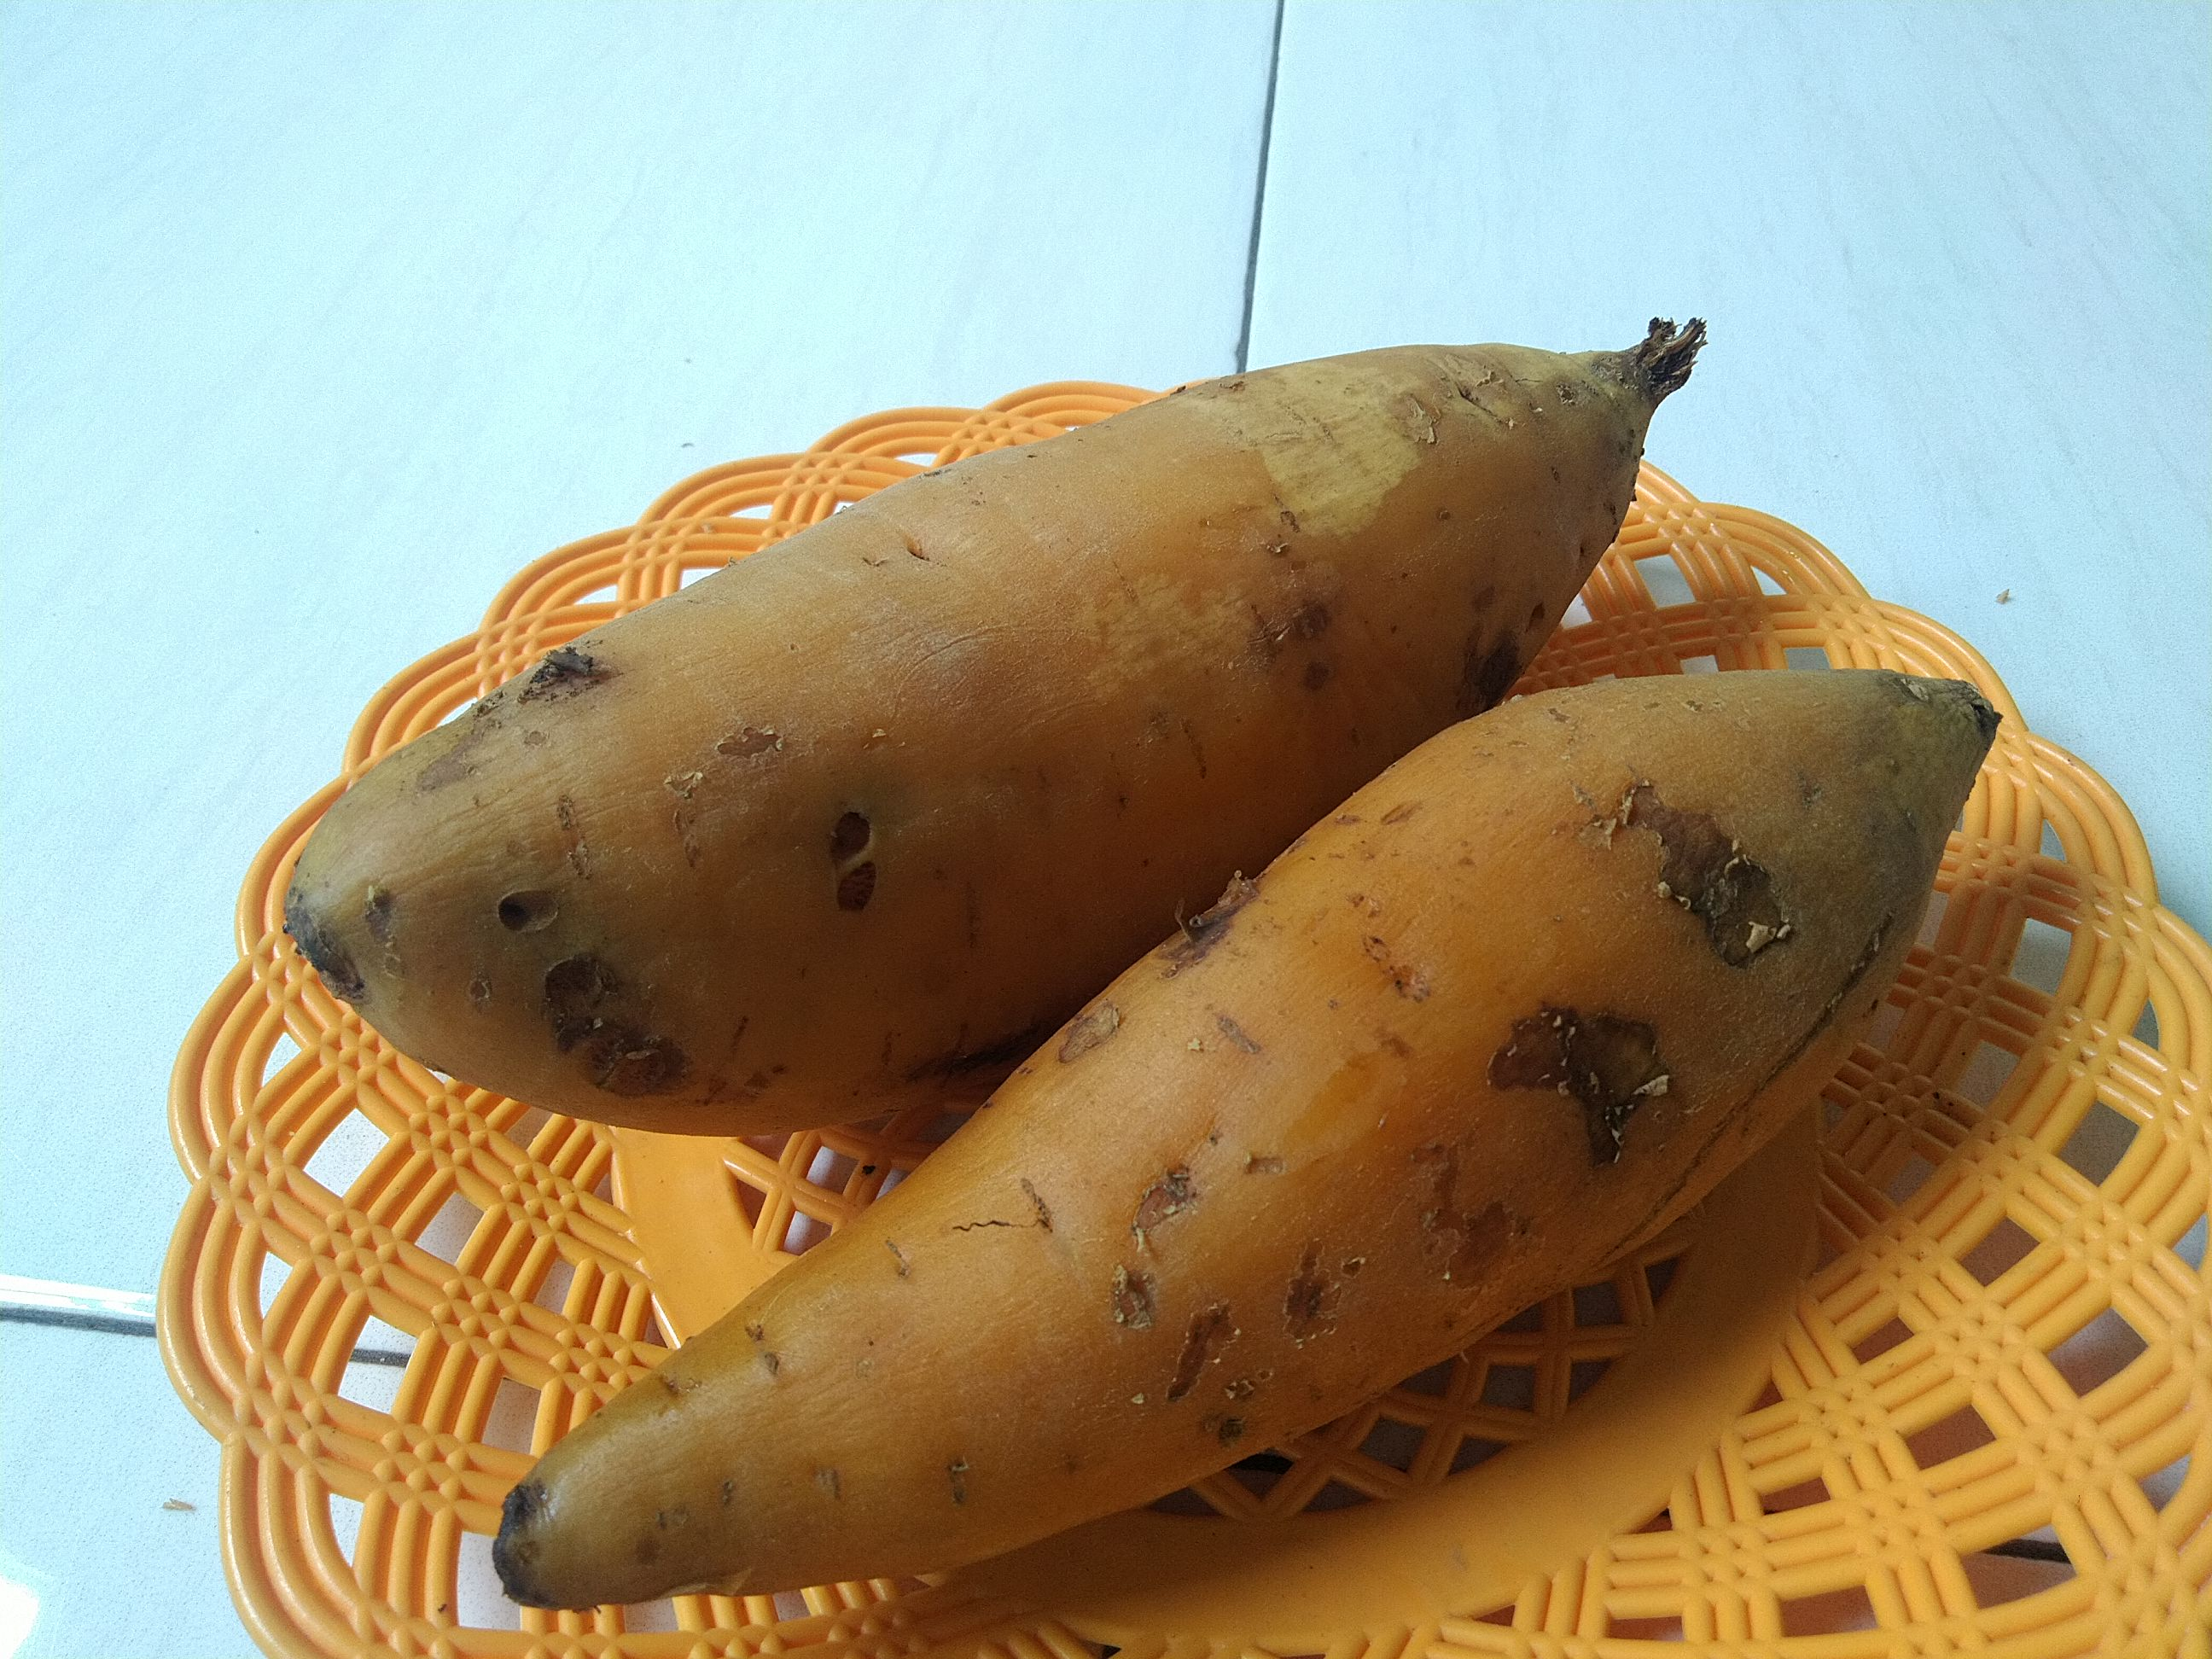ubi cilembu: (284, 300, 2036, 1617), (479, 662, 2041, 1622), (277, 284, 1703, 1136)
